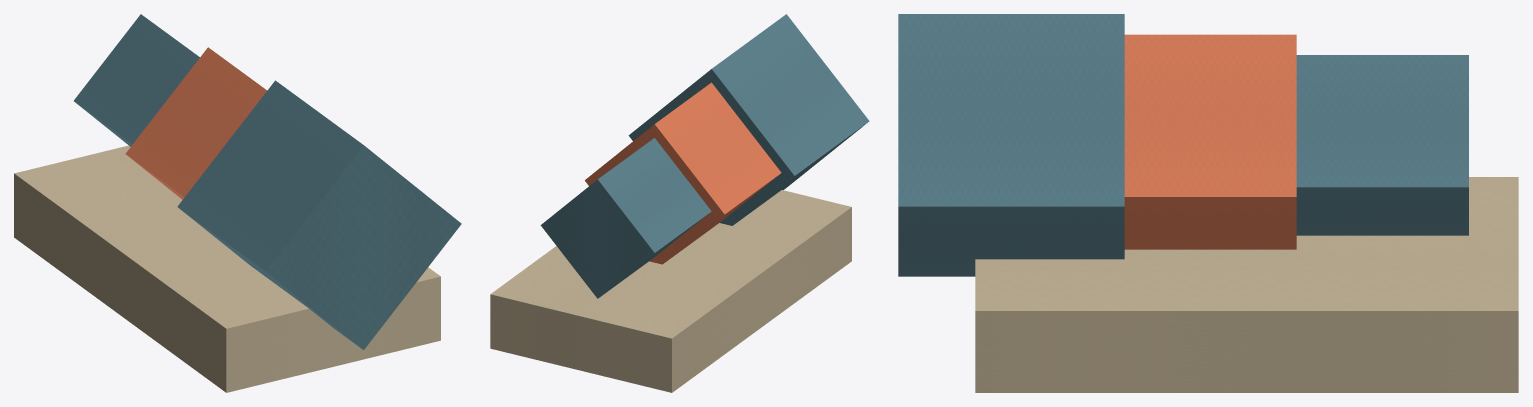
Rendered from atlas100-s049-a05.lod2.glb.
3 renders of one model, left to right at view 1: azimuth 30°, elevation 25°; view 2: azimuth 150°, elevation 25°; view 3: azimuth 270°, elevation 25°, orthographic. The views are drawn at different scales.
Parts seen in each view (by area): view 1: atlas100-s049-a05:part-004, atlas100-s049-a05:part-002, atlas100-s049-a05:part-001, atlas100-s049-a05:part-000; view 2: atlas100-s049-a05:part-004, atlas100-s049-a05:part-002, atlas100-s049-a05:part-000, atlas100-s049-a05:part-001; view 3: atlas100-s049-a05:part-004, atlas100-s049-a05:part-002, atlas100-s049-a05:part-001, atlas100-s049-a05:part-000.
Part boxes in pixels (x1,y1,x2,y2): atlas100-s049-a05:part-004: [14, 145, 440, 392]; atlas100-s049-a05:part-002: [177, 80, 461, 349]; atlas100-s049-a05:part-001: [125, 47, 267, 199]; atlas100-s049-a05:part-000: [74, 14, 199, 146]; atlas100-s049-a05:part-004: [490, 190, 851, 392]; atlas100-s049-a05:part-002: [628, 14, 869, 225]; atlas100-s049-a05:part-000: [540, 138, 711, 298]; atlas100-s049-a05:part-001: [585, 82, 781, 264]; atlas100-s049-a05:part-004: [975, 177, 1518, 392]; atlas100-s049-a05:part-002: [898, 14, 1124, 276]; atlas100-s049-a05:part-001: [1124, 34, 1296, 249]; atlas100-s049-a05:part-000: [1296, 55, 1468, 235].
Bounding box in the file's own units: 0.3822 × 0.415 × 0.748.
Materials: 3 (3 with a texture image).
